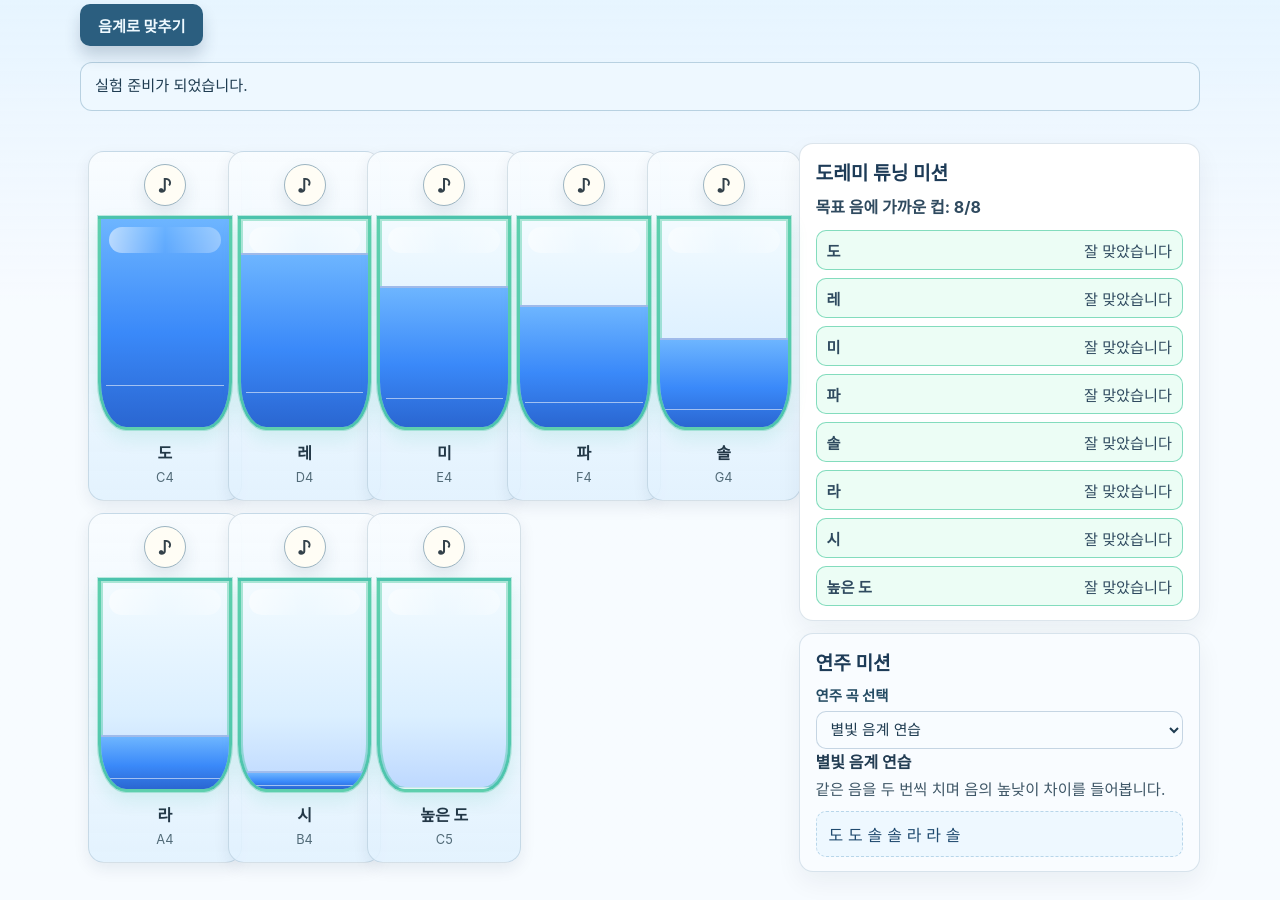
App › changes melody mission when another song is selected
The image size is (1280, 900).
(page scrolled)
Select "도레미 올라가기" in the dropdown labelled "연주 곡 선택": [999, 730] box [816,711,1183,749]
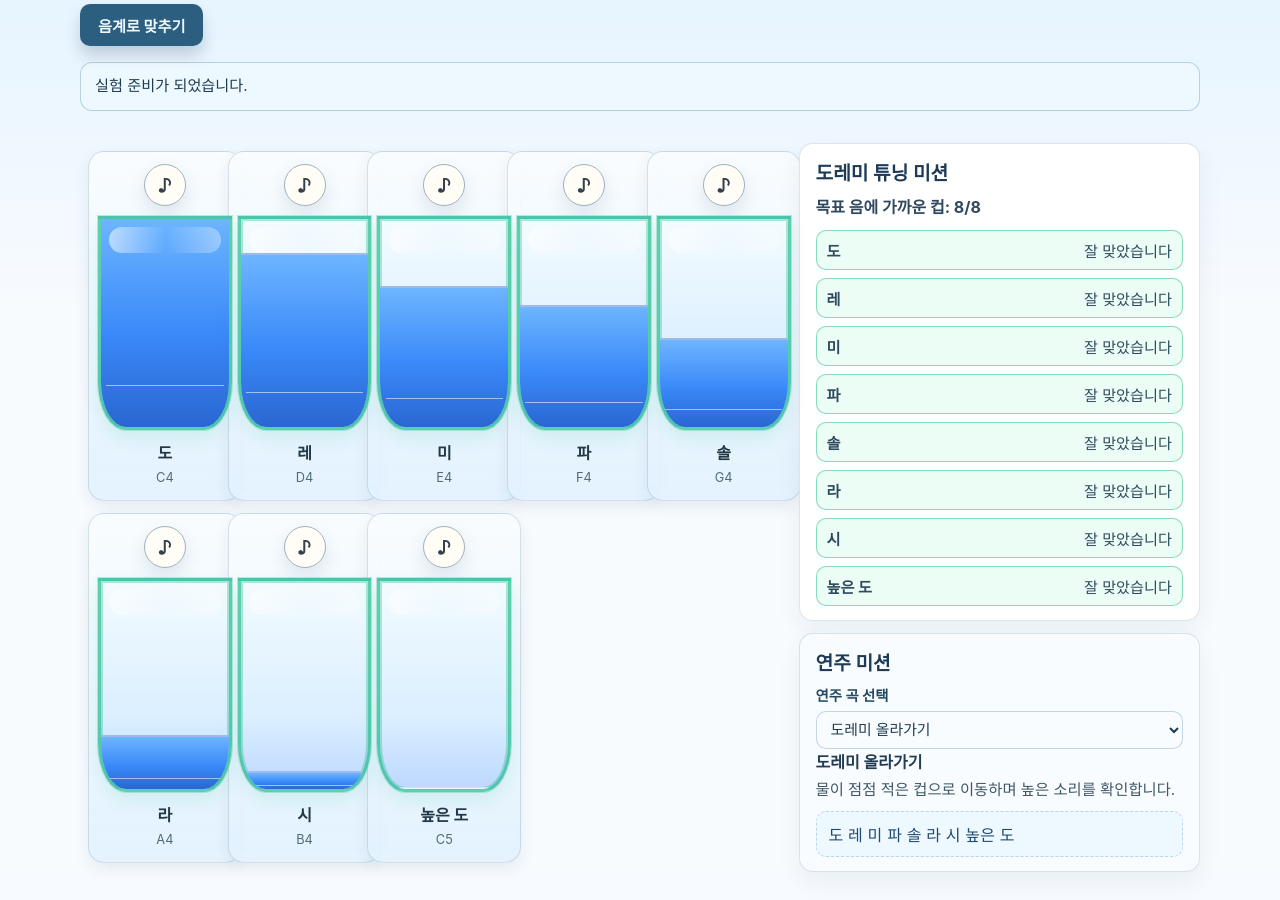
expect the text "도 레 미 파 솔 라 시 높은 도" is shown: met, box [816,811,1183,857]
Select "무지개 한 바퀴" in the dropdown labelled "연주 곡 선택": [999, 730] box [816,711,1183,749]
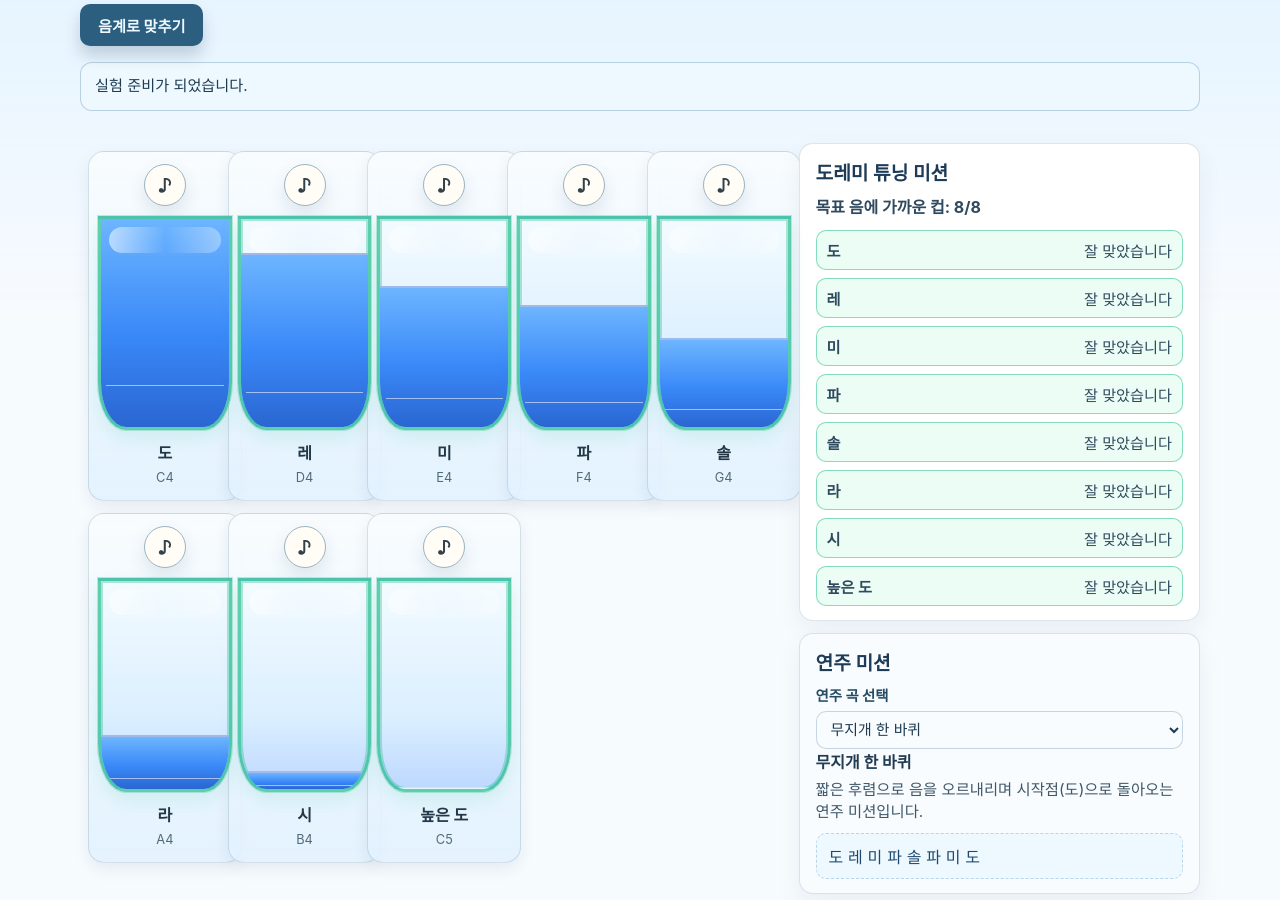
expect the text "도 레 미 파 솔 파 미 도" is shown: met, box [816,833,1183,879]
